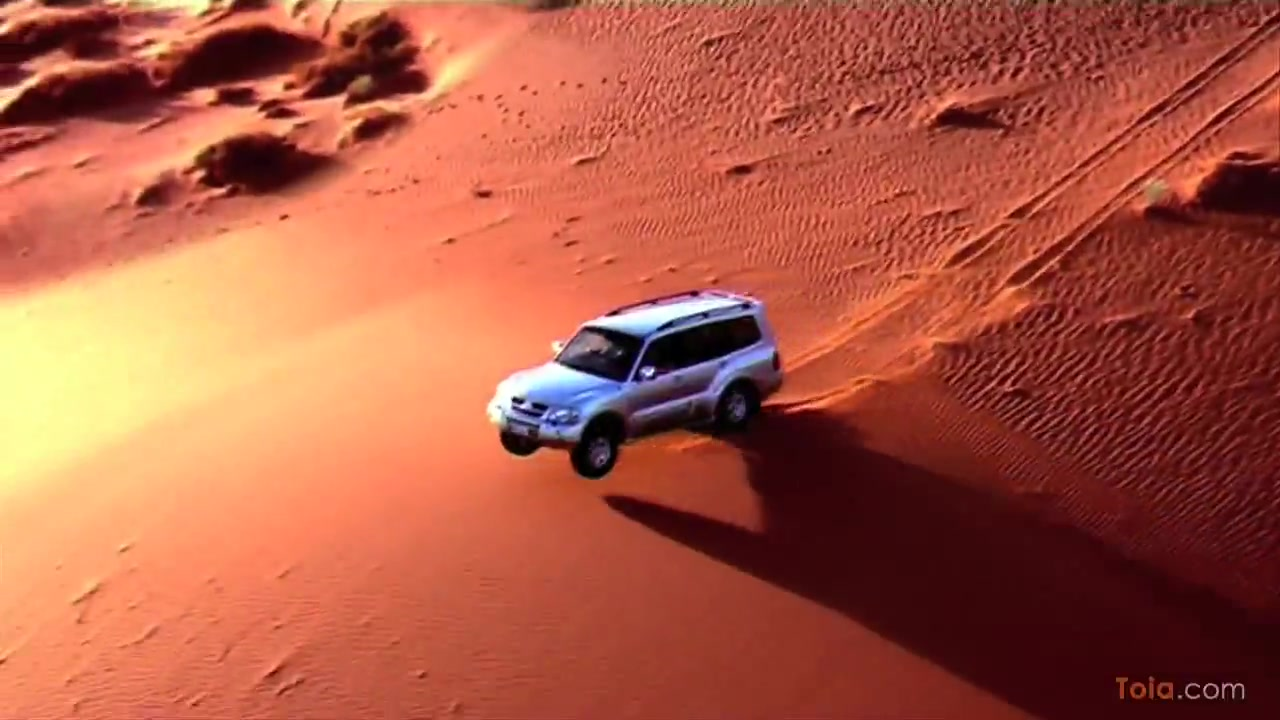car: (487, 288, 790, 482)
